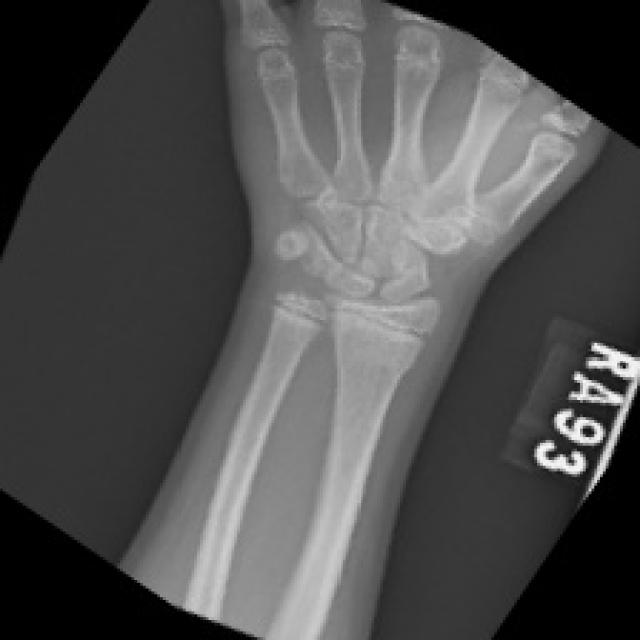fracture: (255, 179, 347, 322)
